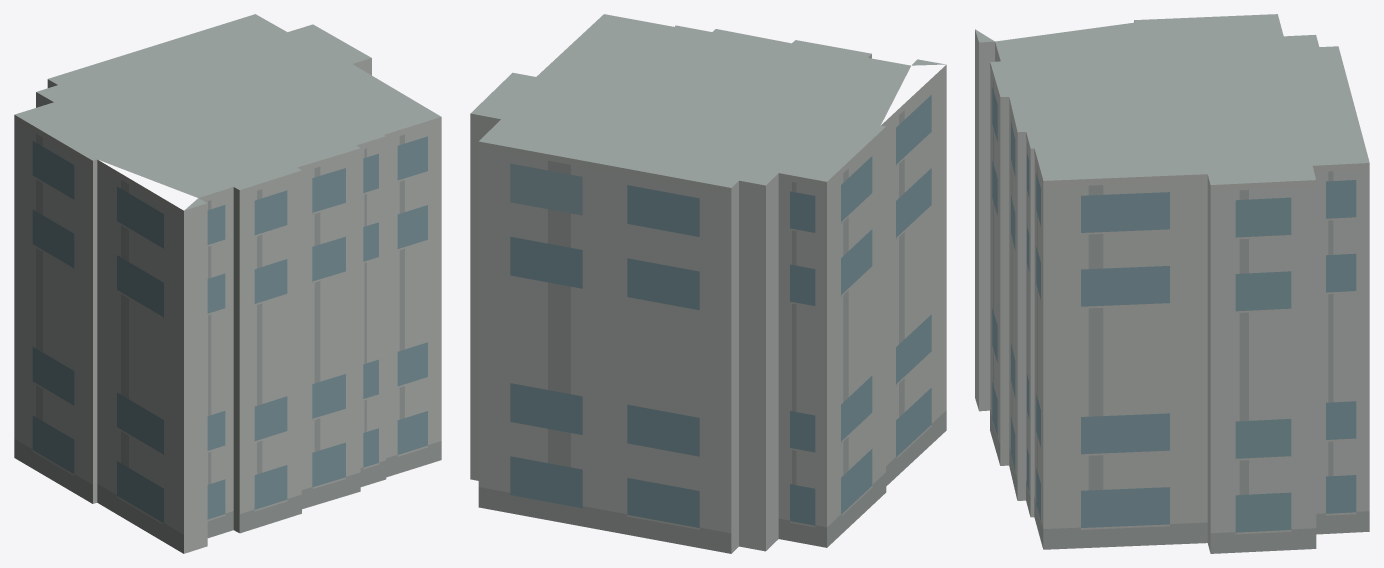
The model's file is survey-upis-32494521.glb.
3 views of the same model, side by side, from view 1: azimuth 30°, elevation 25°; view 2: azimuth 150°, elevation 25°; view 3: azimuth 270°, elevation 25° (orthographic). The views are drawn at different scales.
Parts seen in each view (by area): view 1: survey-upis-32494521.tmp; view 2: survey-upis-32494521.tmp; view 3: survey-upis-32494521.tmp.
Part boxes in pixels (box(x1,y1,x2,y2)): survey-upis-32494521.tmp: box(14, 14, 441, 553); survey-upis-32494521.tmp: box(470, 14, 946, 553); survey-upis-32494521.tmp: box(975, 14, 1369, 553).
Bounding box in the file's own units: 13.74 × 13.8 × 13.39.
